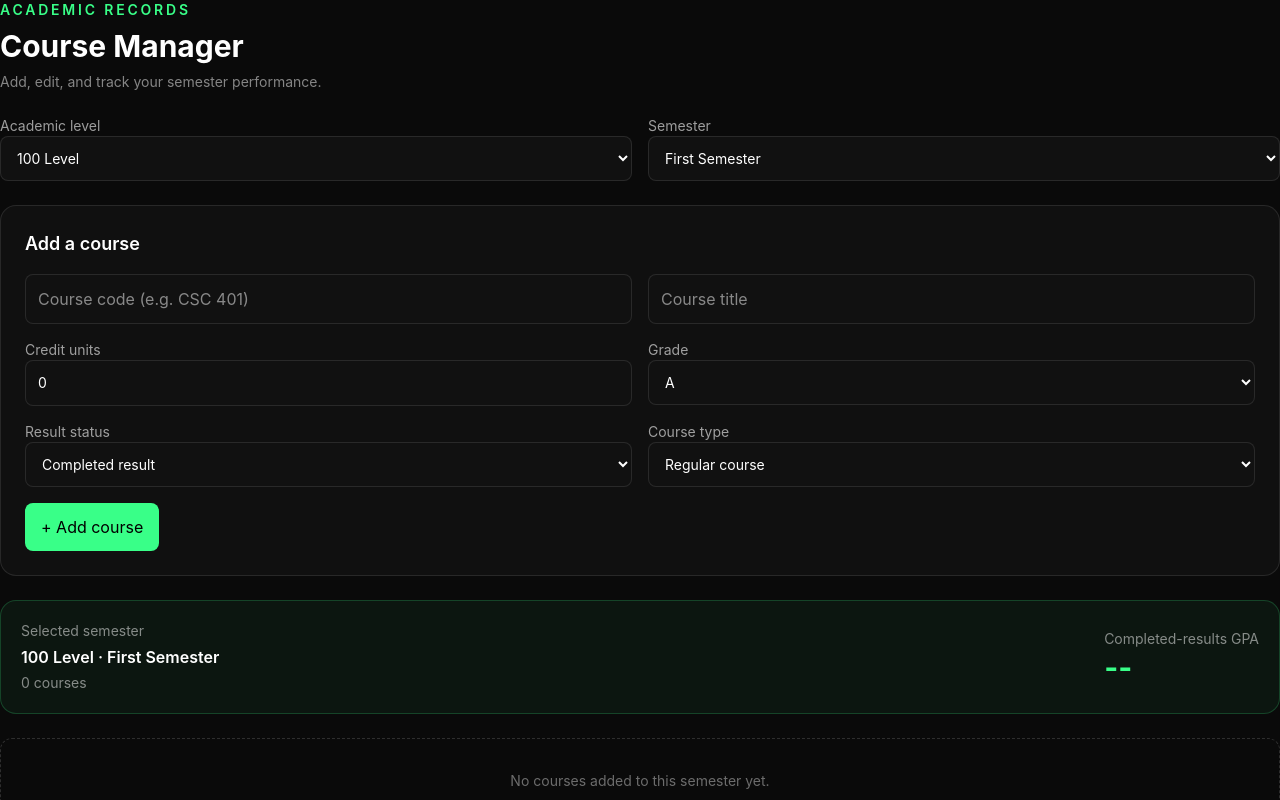
Test: CourseManager › resets the form after successfully adding a course
The width and height of the screenshot is (1280, 800).
Type "CSC 401" into the field with placeholder "Course code (e.g. CSC 401)" at x=328, y=299, box [25,274,632,324]
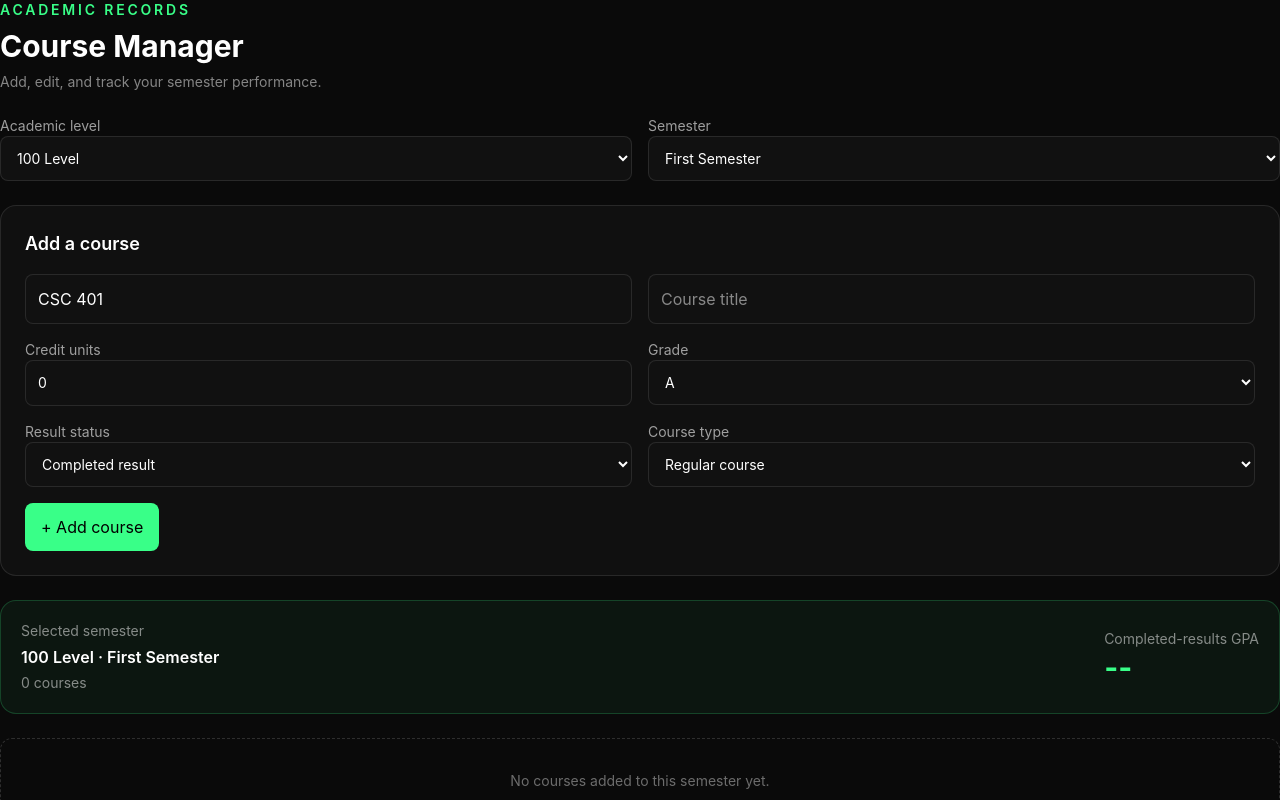
Type "Software Engineering" into the field with placeholder "Course title" at x=952, y=299, box [648,274,1255,324]
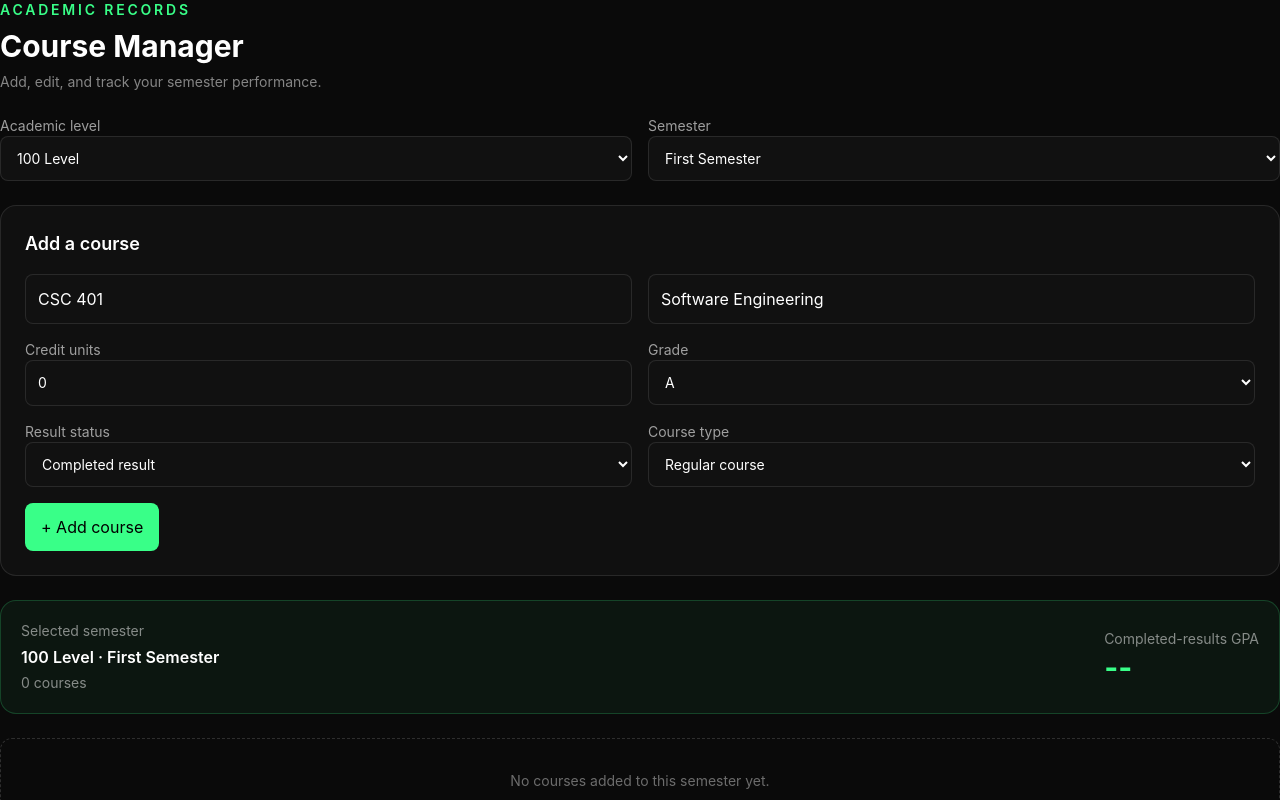
Replace the text in the number field labelled "Credit units" with "3" at x=328, y=383, box [25,360,632,406]
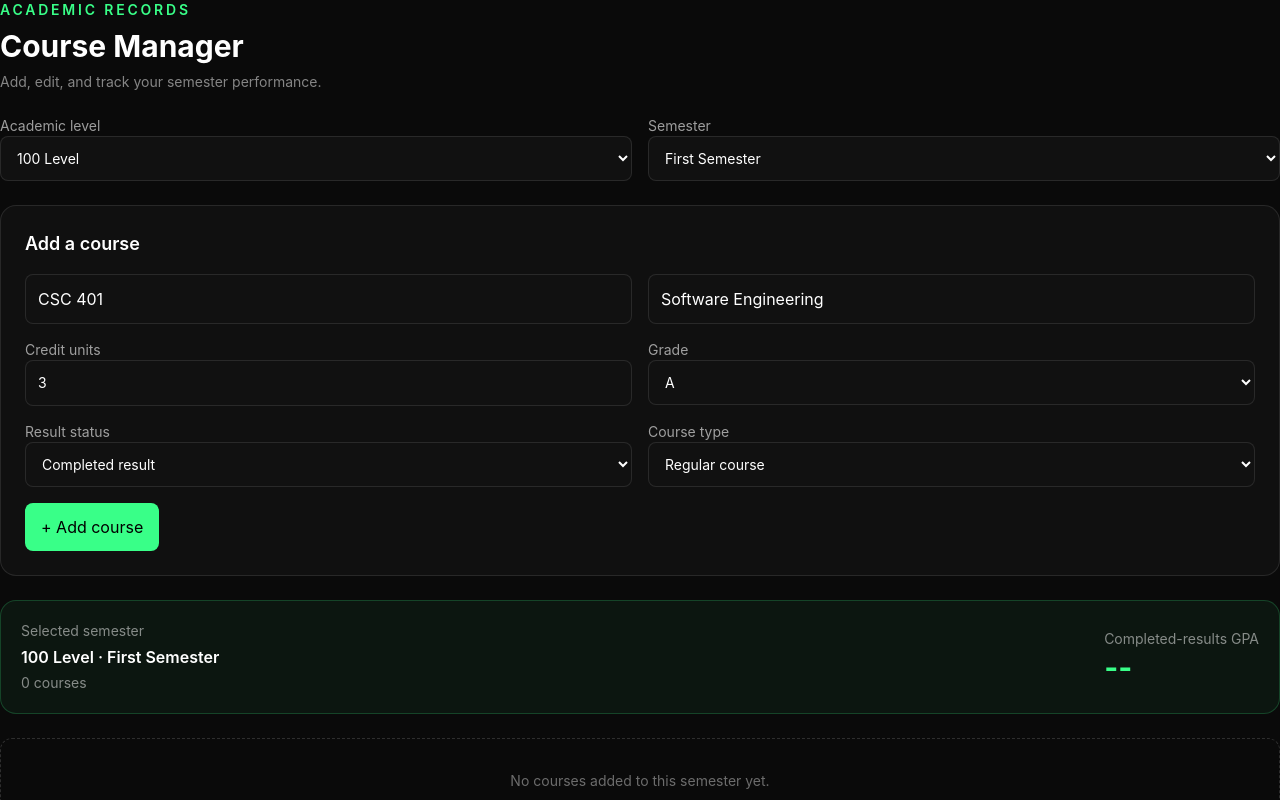
Select "A" in the dropdown labelled "Grade" at x=952, y=382, box [648,360,1255,405]
Select "Completed result" in the dropdown labelled "Result status" at x=328, y=464, box [25,442,632,487]
Select "Regular course" in the dropdown labelled "Course type" at x=952, y=464, box [648,442,1255,487]
Click the button "+ Add course" at x=92, y=527, box [25,503,159,551]
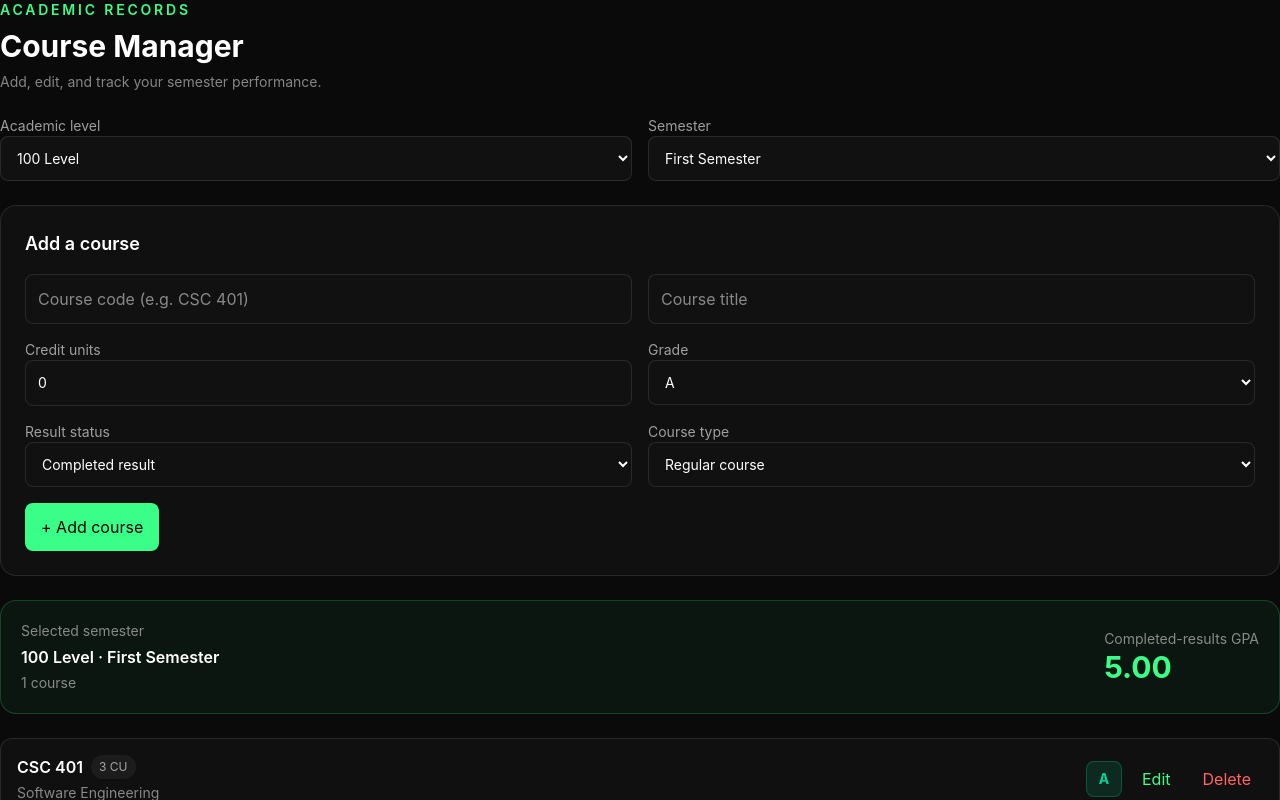
expect the field with placeholder "Course code (e.g. CSC 401)" is empty: met, box [25,274,632,324]
expect the field with placeholder "Course title" is empty: met, box [648,274,1255,324]
expect the number field labelled "Credit units" holds "0": met, box [25,360,632,406]
